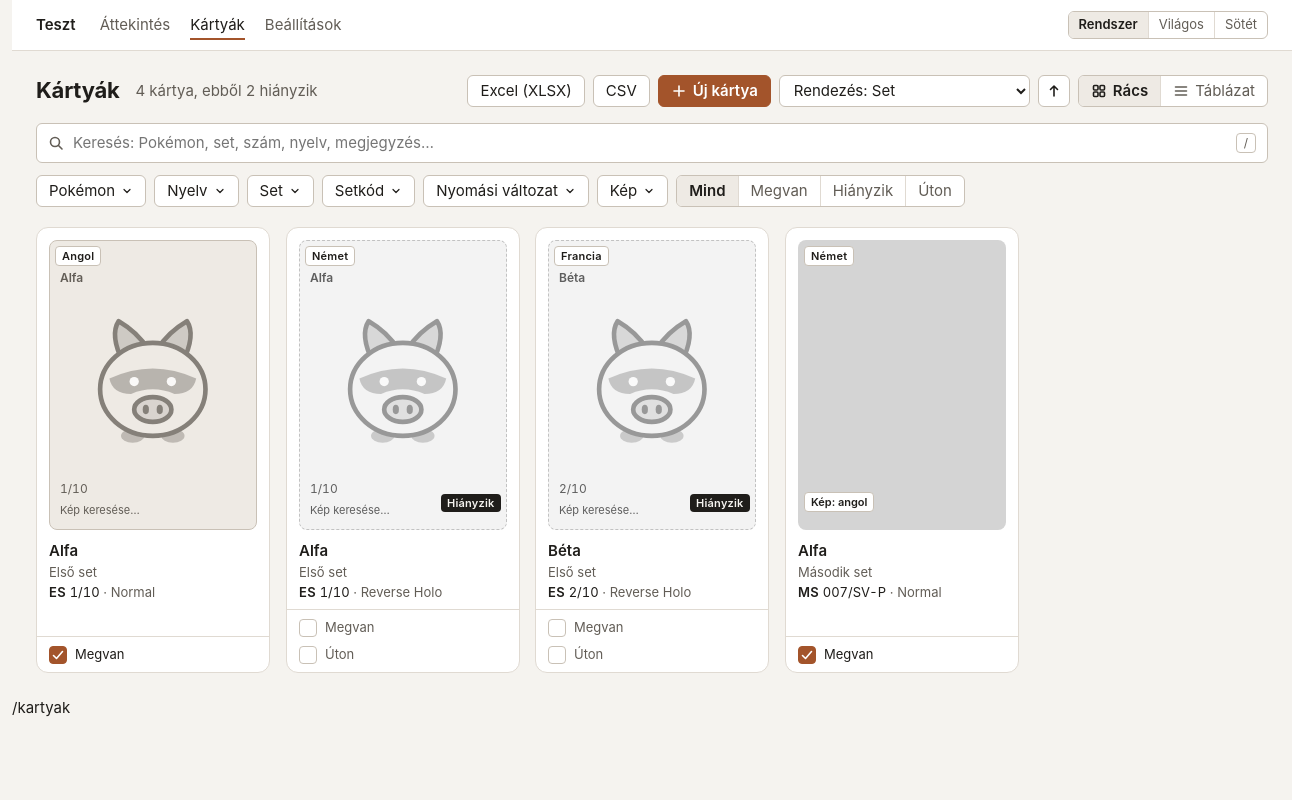
kártyalista (S-10, S-11) › S-11: táblázat a megadott oszlopokkal, a választás megmarad
Click the button "Táblázat".
click(1214, 91)  # box top-left (1160, 76), bottom-right (1267, 106)
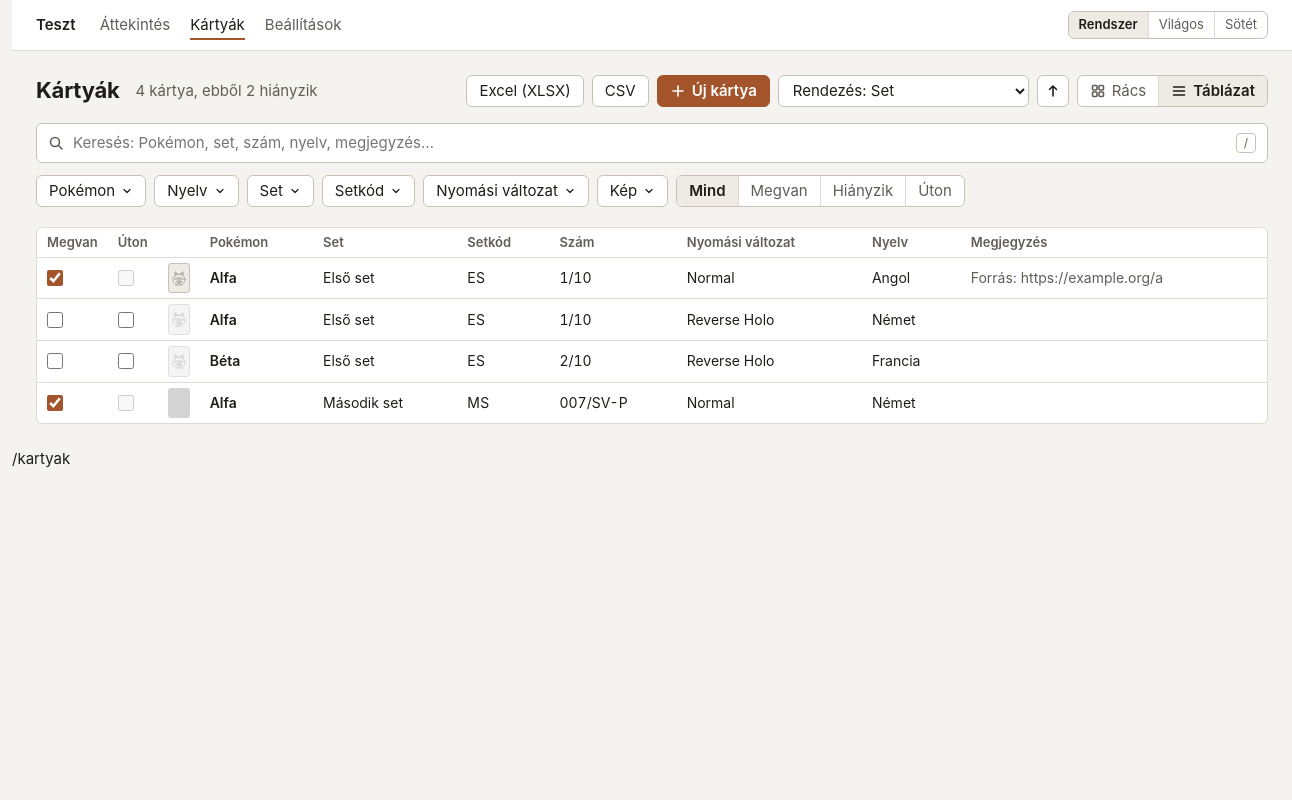
Result: the number of checkboxes is 8
Click the button "Rács".
click(1118, 91)  # box top-left (1078, 76), bottom-right (1158, 106)
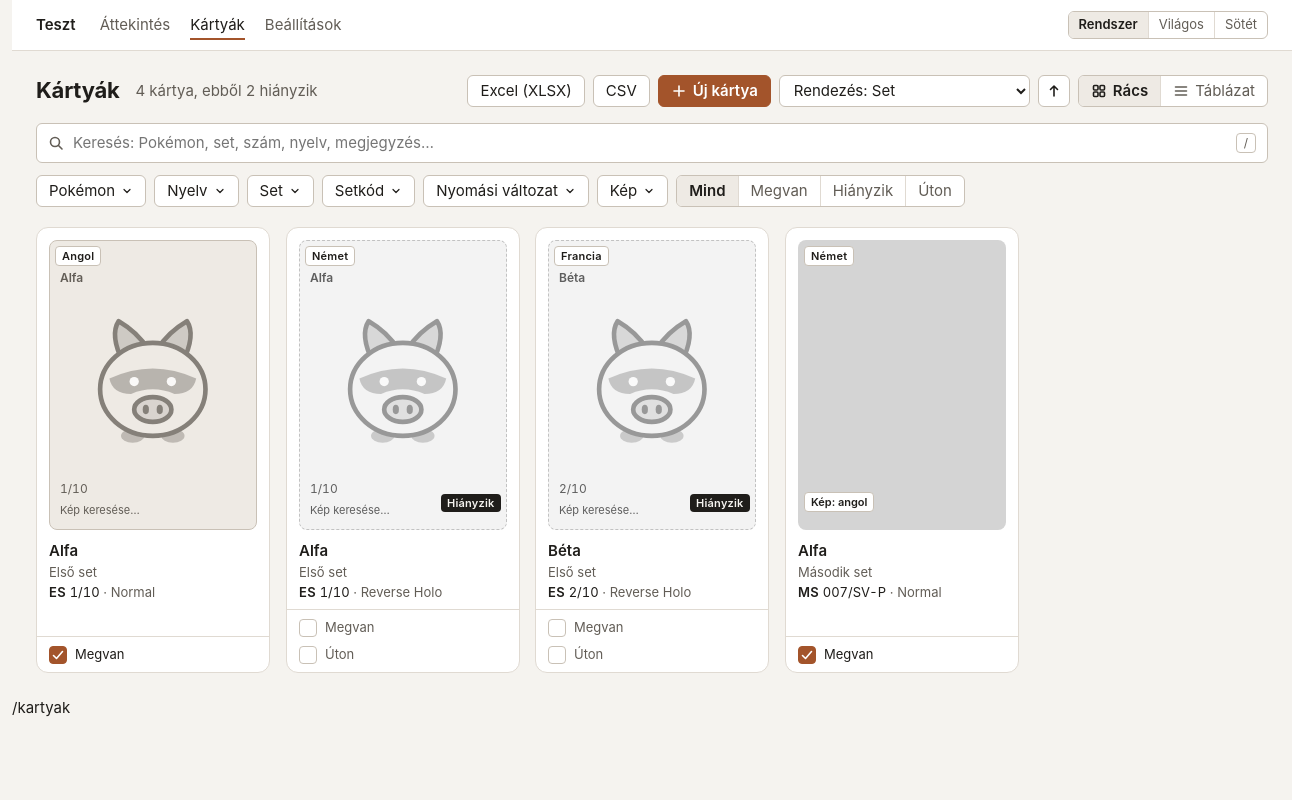
Result: the list with test id "card-grid" is shown at top-left (36, 227), bottom-right (1018, 673)
